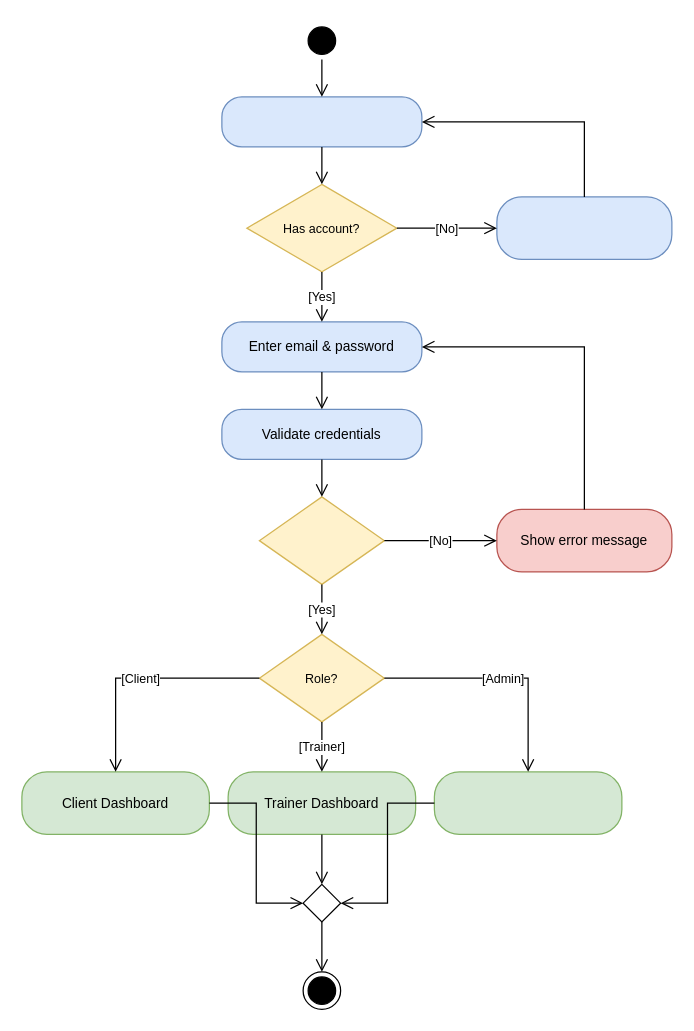
This 694x1031 diagram has some shape labels left out. Each missing label, with the centre of its shape:
Admin Dashboard: (527,802)
Open login page: (321,121)
Register as Client: (584,227)
Valid?: (321,540)
